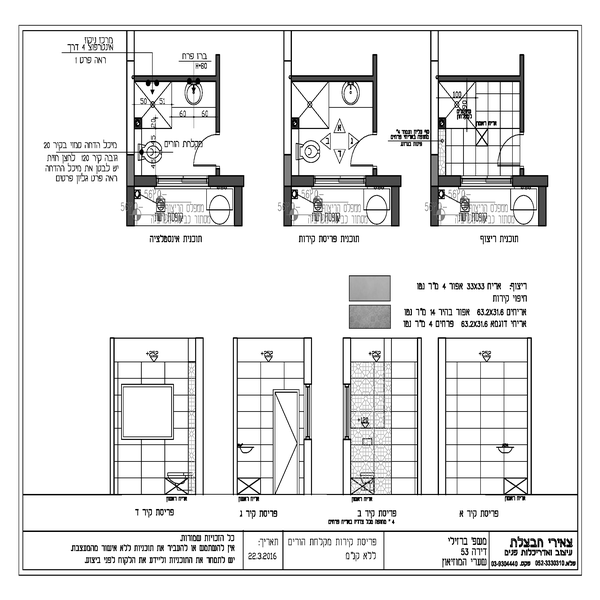door: (181, 126, 232, 169), (347, 128, 379, 172), (497, 128, 523, 167)
room: (117, 69, 247, 193), (272, 62, 389, 189), (436, 64, 532, 191)
wall: (434, 69, 521, 88), (288, 70, 375, 86), (431, 32, 437, 231), (122, 149, 137, 226), (518, 52, 532, 131), (534, 174, 555, 224), (137, 72, 220, 84), (213, 58, 225, 131), (511, 169, 548, 189), (207, 168, 246, 186), (390, 184, 406, 224), (373, 55, 381, 134), (364, 173, 403, 186), (135, 173, 159, 193), (284, 157, 290, 223), (436, 174, 462, 189), (286, 176, 322, 186)
window: (151, 167, 209, 189), (316, 174, 366, 194), (458, 170, 511, 187)
